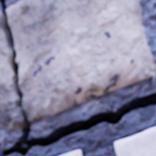brick: (115, 127, 155, 155), (63, 150, 82, 155)
broken_brick: (7, 0, 155, 123), (0, 20, 24, 130)
crack: (0, 0, 155, 155), (0, 122, 5, 127)
